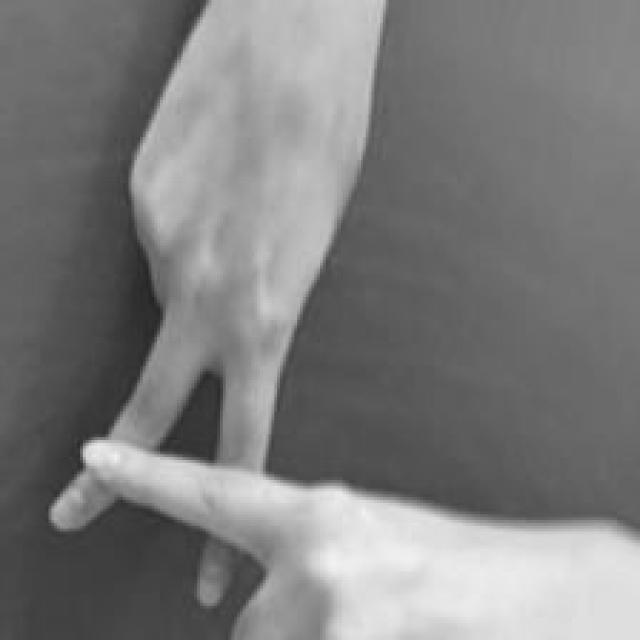A: (49, 183, 400, 640)
